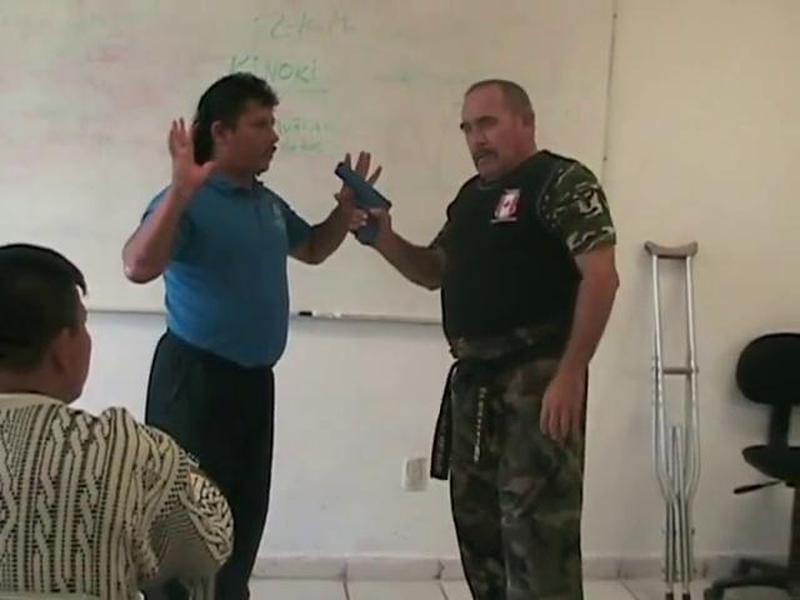Pistola: (320, 160, 404, 264)
